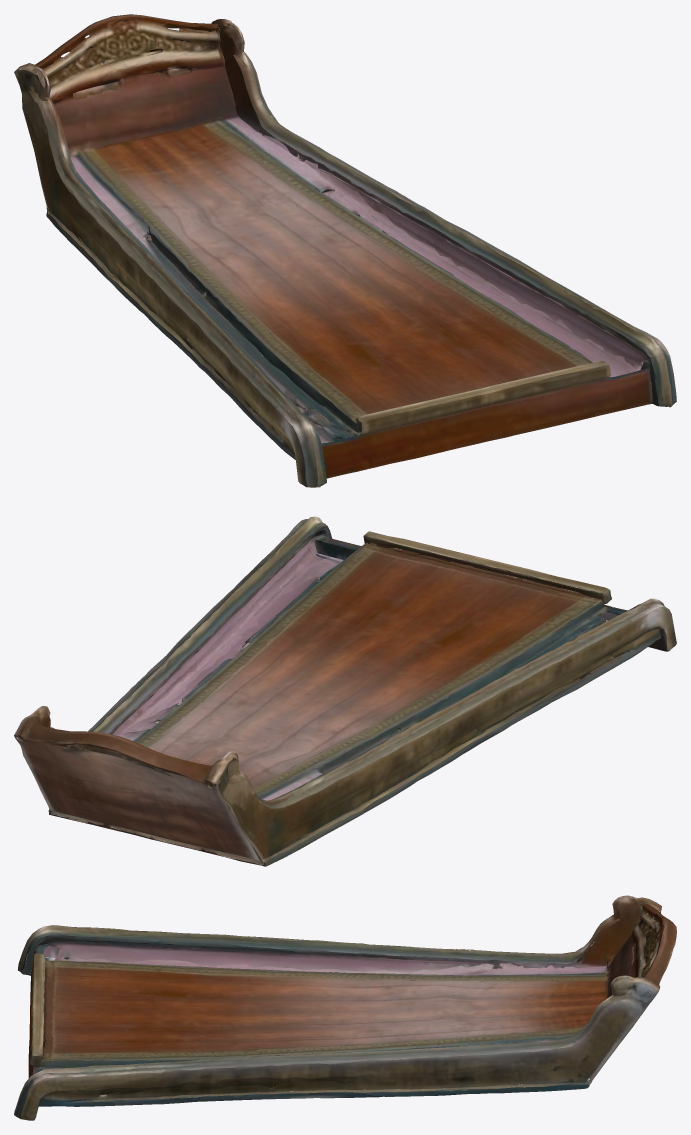
The model's file is bowling-lane.glb.
3 views of the same model, one above another, from view 1: azimuth 30°, elevation 25°; view 2: azimuth 150°, elevation 25°; view 3: azimuth 270°, elevation 25° (orthographic). The views are drawn at different scales.
Parts seen in each view (by area): view 1: geometry_0; view 2: geometry_0; view 3: geometry_0.
Boxes of the visible parts, bbox=[...] form: geometry_0: bbox=[14, 14, 676, 487]; geometry_0: bbox=[14, 516, 676, 866]; geometry_0: bbox=[14, 895, 676, 1120].
Size of the model in its own units: 2.7 by 1.06 by 5.02.
1 material, 1 textured.
